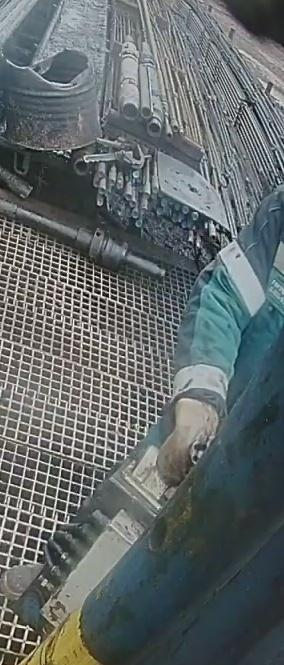gloves: (157, 376, 221, 487)
vest: (192, 185, 283, 381)
